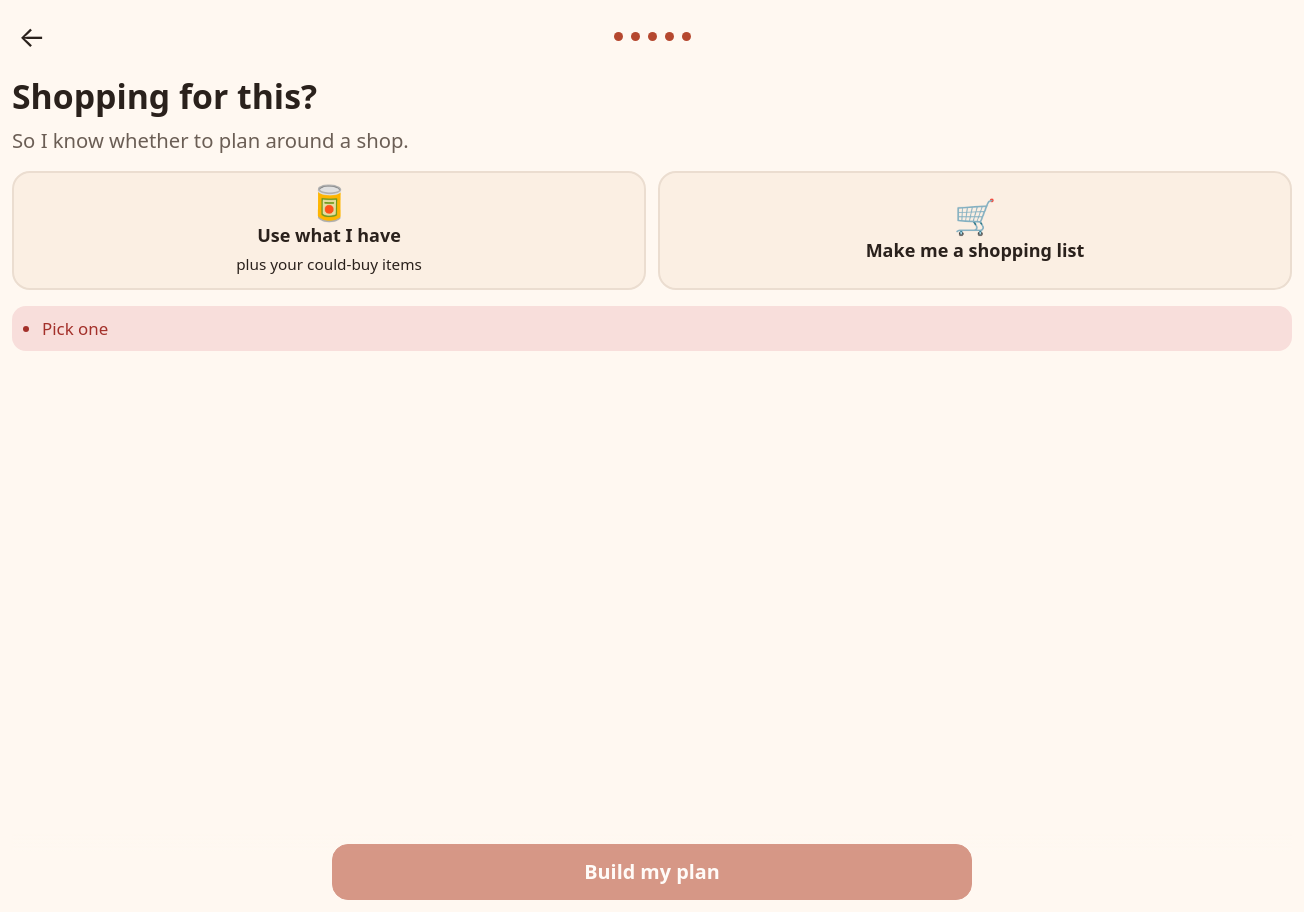
Test case: C3b Shopping for this? (AA6: budget tiers) › four tier cards for this week: regular groceries, stock-up apart, protein and what each includes; a tap picks one
Expected: the button "Build my plan" is disabled, [332, 844, 972, 900]
What coordinates should you click on to do the following:
click the button "🛒 Make me a shopping list"
I would click on:
 (975, 230)
Its box is [658, 171, 1292, 290].
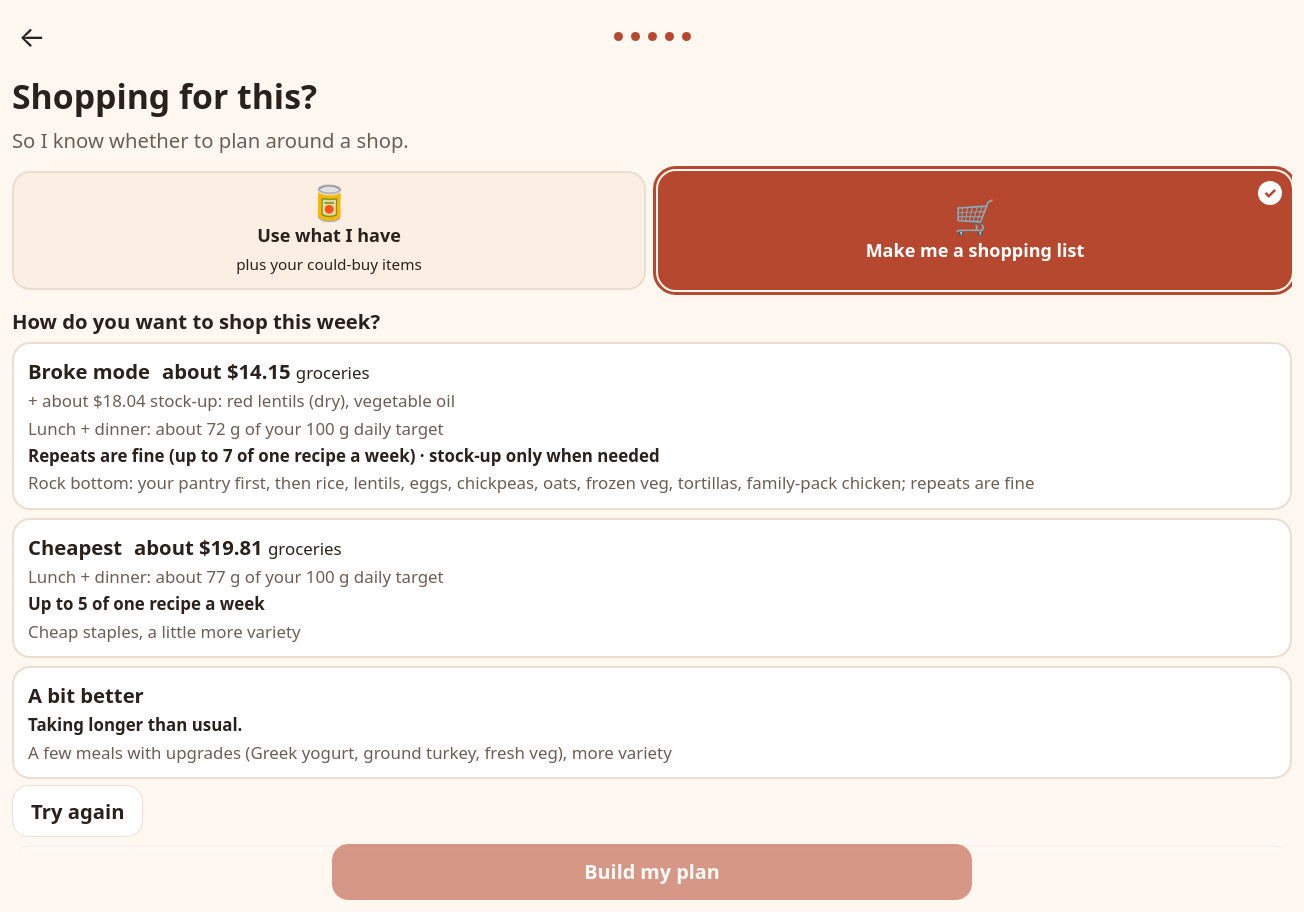
Expected: the button "Broke mode" shows "about $14.15 groceries", [12, 342, 1292, 510]
Expected: the button "Broke mode" shows "+ about $18.04 stock-up: red lentils (dry), vegetable oil", [12, 342, 1292, 510]
Expected: the button "Broke mode" shows "Lunch + dinner: about 72 g of your 100 g daily target", [12, 342, 1292, 510]
What coordinates should you click on to do the following:
click the button "Cheapest"
I would click on:
 (652, 588)
Its box is [12, 518, 1292, 658].
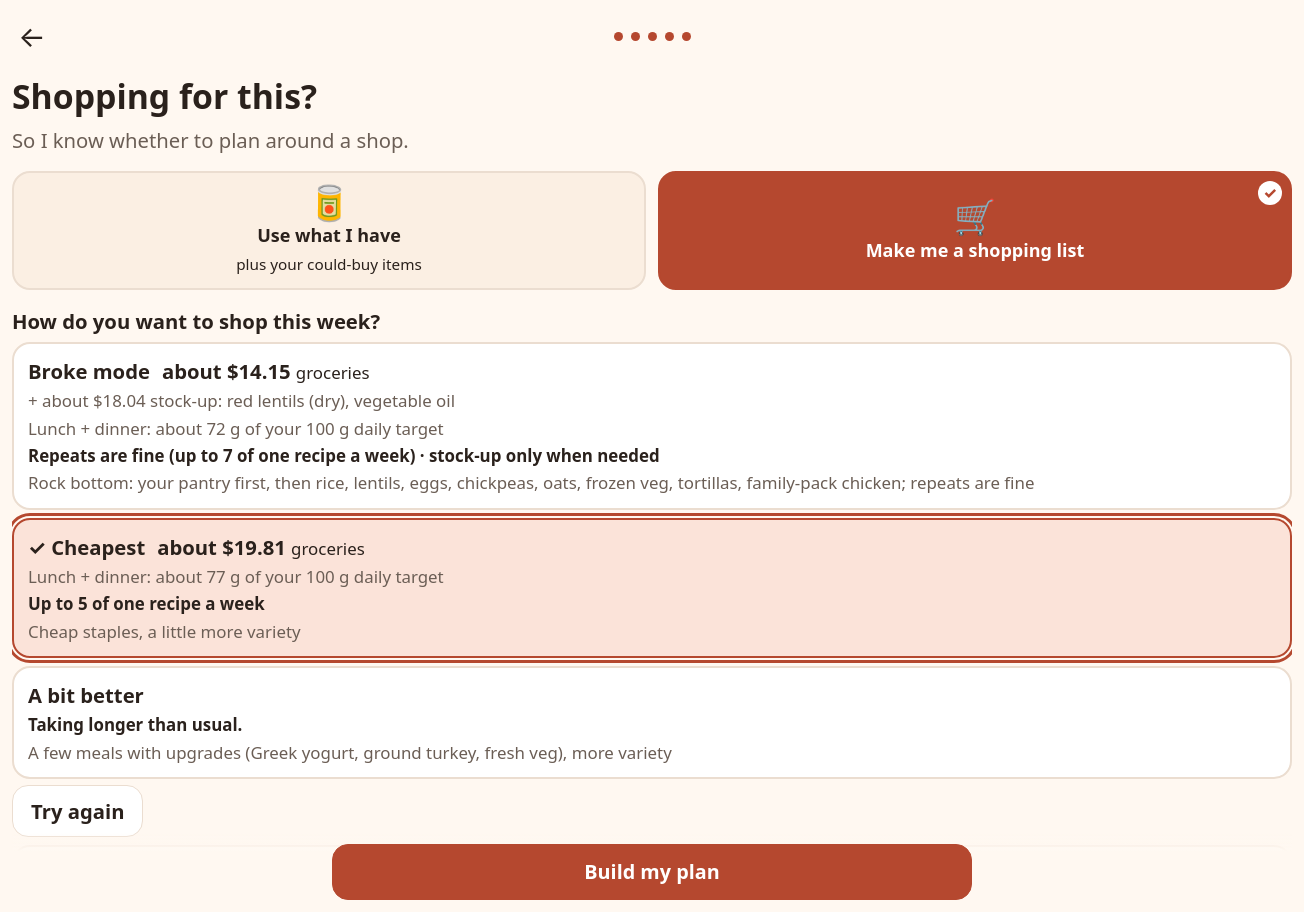
Expected: the button "Build my plan" is enabled, [332, 844, 972, 900]
